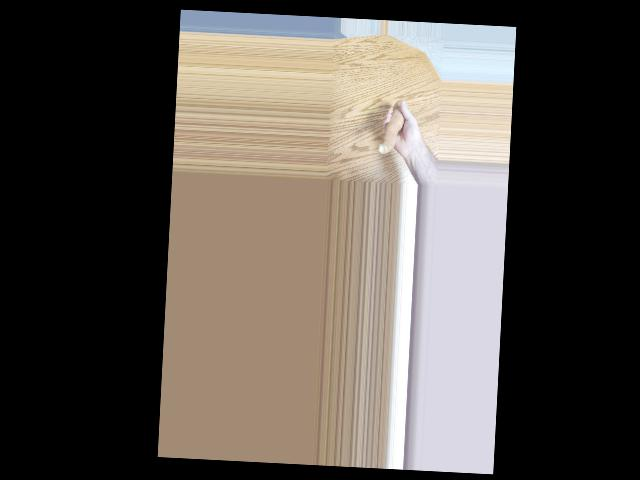sweet_potato: (378, 96, 405, 158)
